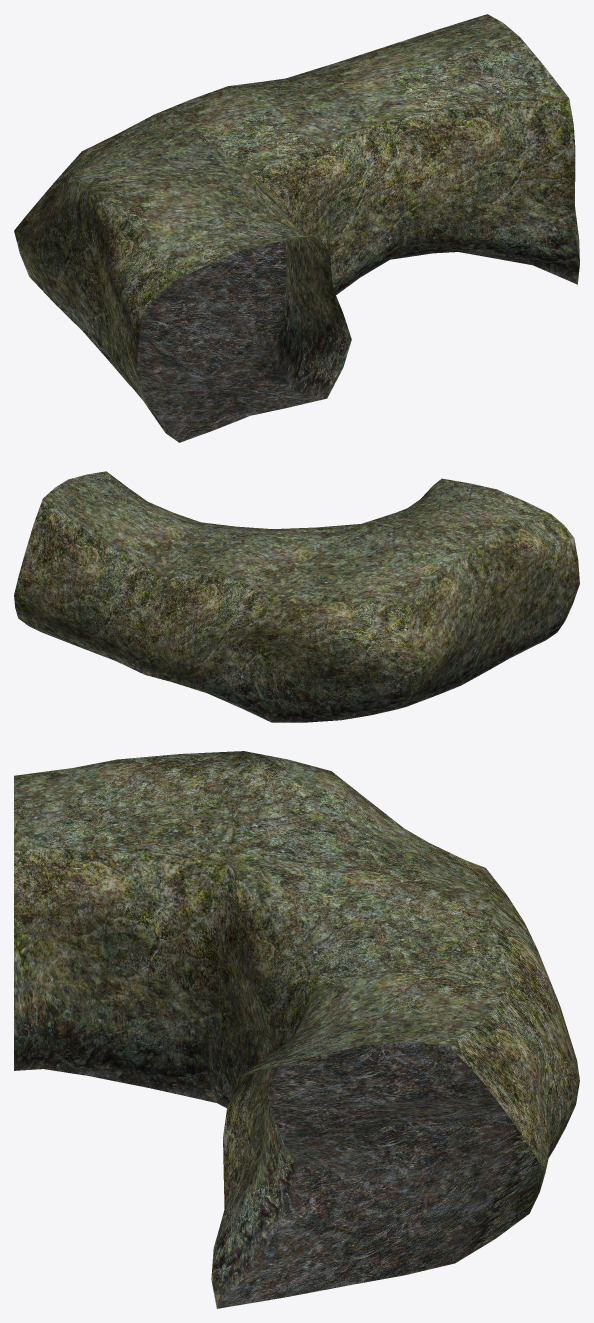
The model's file is thm_all_cave_s02_damprock_mirror_r7_mesh_r7.fbx.
The picture shows the model from 3 angles, top to bottom: view 1: azimuth 30°, elevation 25°; view 2: azimuth 150°, elevation 25°; view 3: azimuth 270°, elevation 25°; orthographic projection. The views are drawn at different scales.
Visible parts, largest first — view 1: mesh_node; view 2: mesh_node; view 3: mesh_node.
Part boxes in pixels (x1,y1,x2,y2): mesh_node: (14, 14, 579, 442); mesh_node: (14, 471, 579, 722); mesh_node: (14, 751, 579, 1308).
Size of the model in its own units: 30.85 by 11.75 by 22.62.
